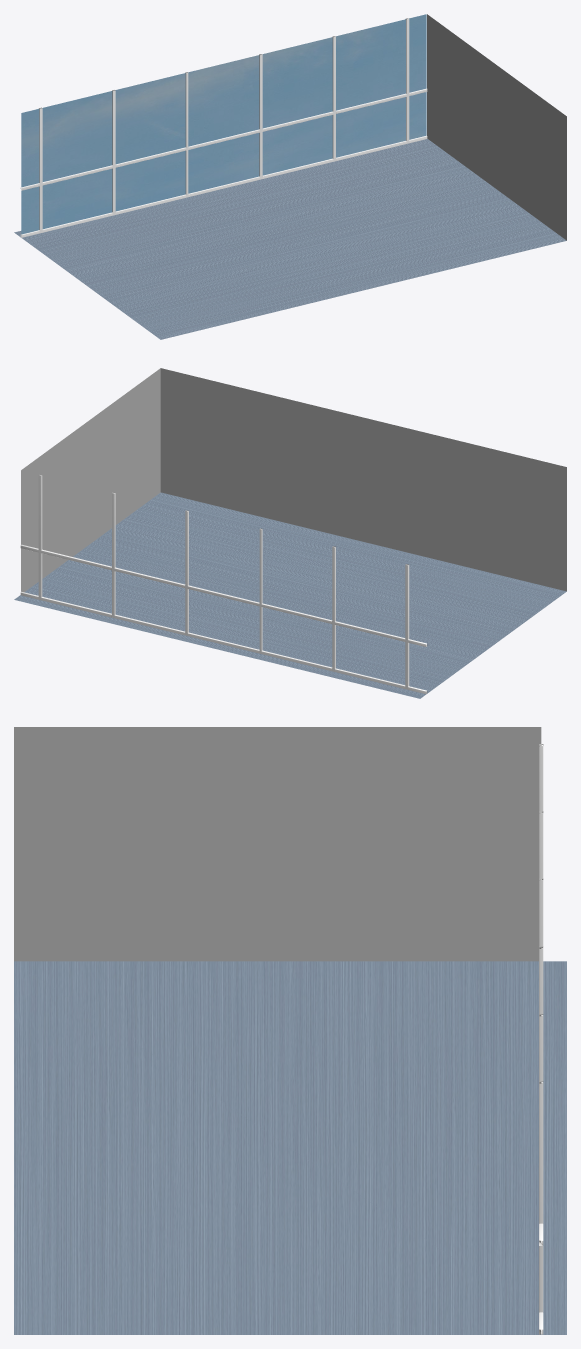
Rendered from hall.glb.
3 views of the same model, one above another, from view 1: azimuth 30°, elevation 25°; view 2: azimuth 150°, elevation 25°; view 3: azimuth 270°, elevation 25° (orthographic). The views are drawn at different scales.
Visible parts, largest first — view 1: Floor, background, Wall, Windows_primitive1; view 2: Wall, Floor, Windows_primitive1; view 3: Floor, Wall, Windows_primitive1.
Part boxes in pixels (left/top/right/bottom): Floor: left=14, top=139, right=566, bottom=339; background: left=21, top=14, right=426, bottom=234; Wall: left=427, top=14, right=566, bottom=240; Windows_primitive1: left=20, top=18, right=427, bottom=237; Wall: left=21, top=368, right=566, bottom=591; Floor: left=14, top=492, right=566, bottom=698; Windows_primitive1: left=20, top=474, right=427, bottom=693; Floor: left=14, top=961, right=566, bottom=1334; Wall: left=14, top=727, right=541, bottom=961; Windows_primitive1: left=539, top=744, right=543, bottom=1334.
Size of the model in its own units: 32.38 by 9.47 by 20.26.
5 materials, 2 textured.
